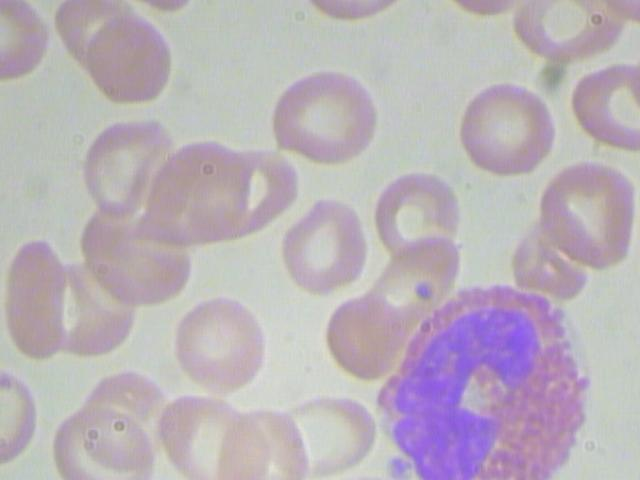RBC: (259, 64, 383, 166), (168, 290, 279, 398), (536, 160, 637, 277), (453, 77, 560, 182), (278, 188, 370, 299), (365, 163, 460, 269), (82, 7, 177, 113), (1, 237, 72, 366), (46, 401, 158, 480), (321, 289, 407, 383)
